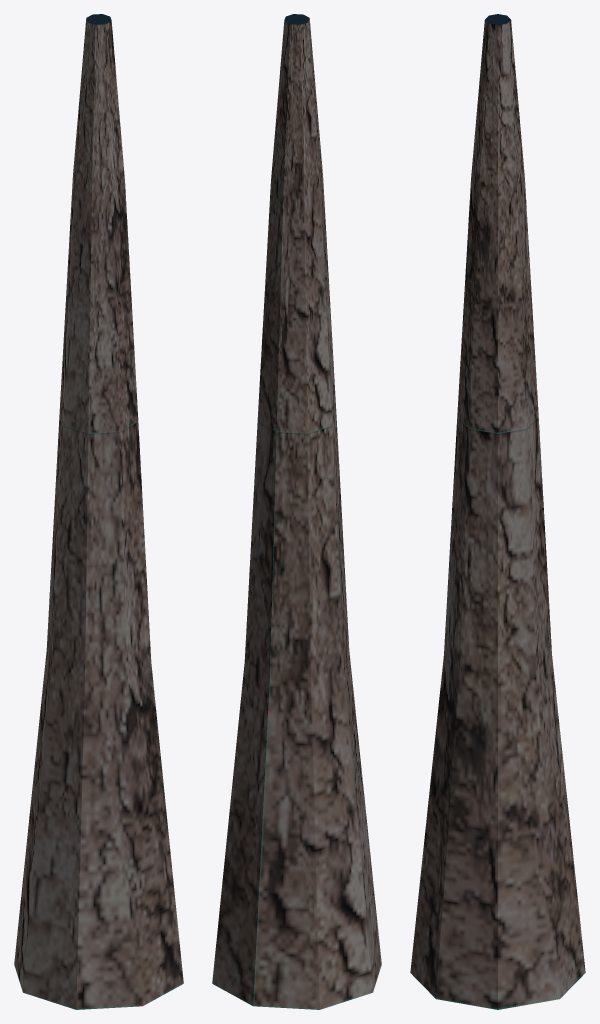
File: tree_1_trunk.obj
3 renders of one model, left to right at view 1: azimuth 30°, elevation 25°; view 2: azimuth 150°, elevation 25°; view 3: azimuth 270°, elevation 25°, orthographic.
Parts seen in each view (by area): view 1: Cylinder.001; view 2: Cylinder.001; view 3: Cylinder.001.
Boxes of the visible parts, x1,y1,x2,y2 form: Cylinder.001: (14,14,183,1009); Cylinder.001: (212,14,381,1009); Cylinder.001: (410,14,585,1009).
Size of the model in its own units: 2 by 12 by 2.
Materials: 1 (1 with a texture image).
